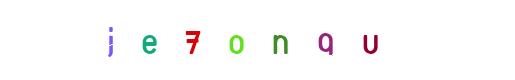7: (214, 0, 294, 80)
E: (109, 0, 189, 80)
J: (70, 0, 150, 80)
N: (218, 0, 298, 80)
O: (217, 0, 297, 80)
Q: (231, 0, 311, 80)
U: (287, 0, 367, 80)
